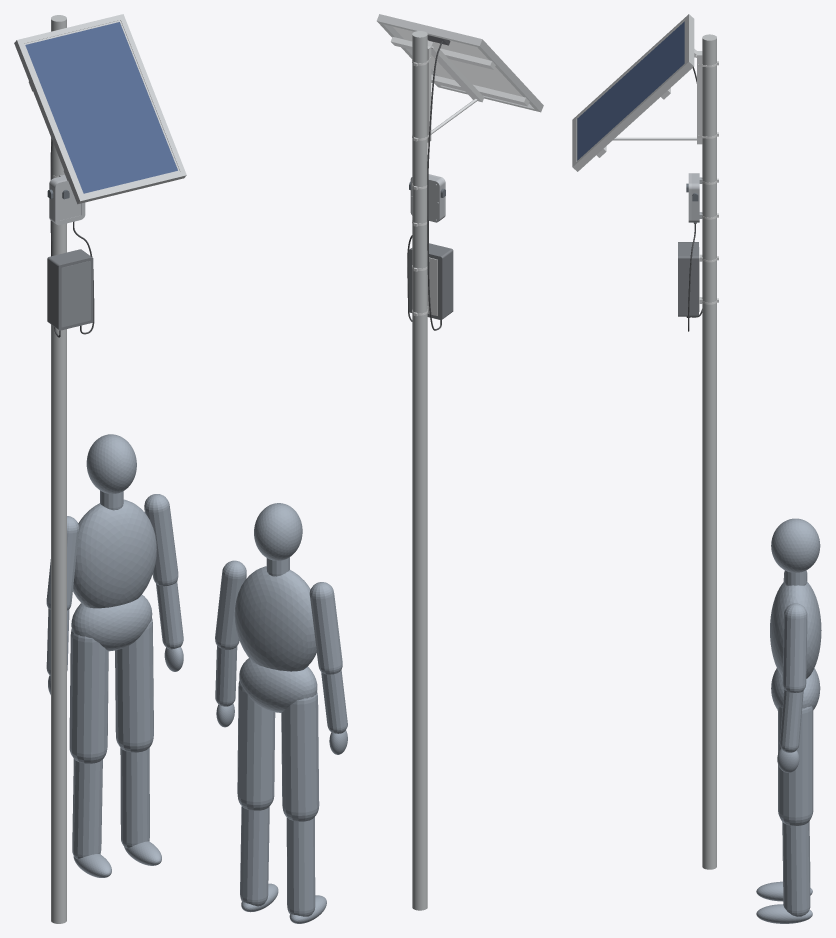
The model's file is nebuleair_pro_kit_solaire_v1.glb.
3 renders of one model, left to right at view 1: azimuth 30°, elevation 25°; view 2: azimuth 150°, elevation 25°; view 3: azimuth 270°, elevation 25°, orthographic. The views are drawn at different scales.
Visible parts, largest first — view 1: silhouette, panneau_cellules, poteau, panneau_cadre, batterie_face, batterie, boitier_couvercle; view 2: silhouette, poteau, panneau_cadre, panneau_fond, batterie, boitier_corps, support_rail_incline, support_traverse_1; view 3: silhouette, poteau, panneau_cellules, panneau_cadre, batterie, support_rail_poteau.
Boxes of the visible parts, <box> form: silhouette: <box>46,434,183,877</box>; panneau_cellules: <box>25,22,177,193</box>; poteau: <box>51,15,66,923</box>; panneau_cadre: <box>14,14,186,204</box>; batterie_face: <box>61,261,90,327</box>; batterie: <box>47,249,93,330</box>; boitier_couvercle: <box>53,179,85,225</box>; silhouette: <box>215,503,347,923</box>; poteau: <box>412,31,427,910</box>; panneau_cadre: <box>376,14,543,112</box>; panneau_fond: <box>392,26,522,96</box>; batterie: <box>408,243,453,319</box>; boitier_corps: <box>410,175,443,222</box>; support_rail_incline: <box>427,41,484,102</box>; support_traverse_1: <box>431,74,529,106</box>; silhouette: <box>756,518,821,923</box>; poteau: <box>702,34,716,869</box>; panneau_cellules: <box>577,21,684,160</box>; panneau_cadre: <box>572,14,694,171</box>; batterie: <box>678,242,698,316</box>; support_rail_poteau: <box>697,51,702,144</box>.
Size of the model in its own units: 0.9498 by 3.72 by 1.01.
